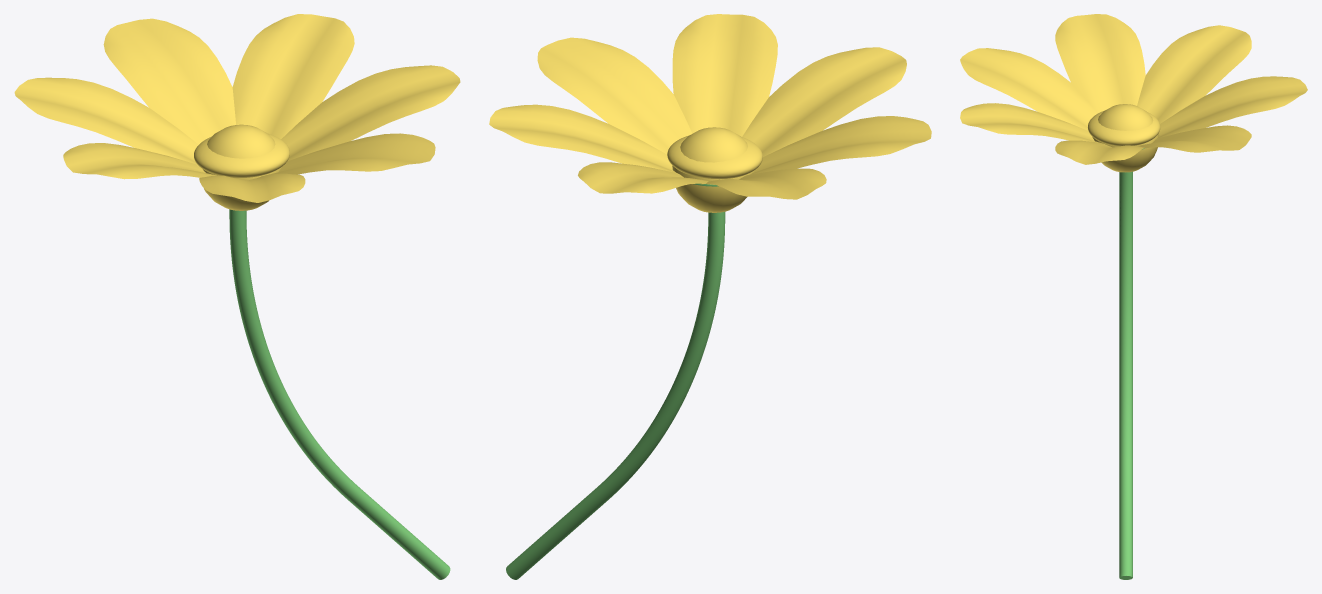
Rendered from lowPolyFlower.glb.
The picture shows the model from 3 angles, left to right: view 1: azimuth 30°, elevation 25°; view 2: azimuth 150°, elevation 25°; view 3: azimuth 270°, elevation 25°; orthographic projection. The views are drawn at different scales.
Visible parts, largest first — view 1: Plane 0.8, Plane 0.1, Plane 0.7, Stem, Plane 0.3, Plane 0.6, Plane 0.4, Middle, Plane 0.5, Middle.2; view 2: Plane 0.6, Plane 0.7, Plane 0.5, Stem, Plane 0.8, Plane 0.4, Middle, Plane 0.1, Plane 0.3, Middle.2; view 3: Plane 0.4, Plane 0.3, Stem, Plane 0.5, Plane 0.1, Plane 0.6, Plane 0.8, Middle, Plane 0.7, Middle.2.
Boxes of the visible parts, left/top/right/bottom form: Plane 0.8: left=232, top=14, right=354, bottom=138; Plane 0.1: left=103, top=18, right=235, bottom=144; Plane 0.7: left=281, top=65, right=460, bottom=161; Stem: left=229, top=209, right=450, bottom=579; Plane 0.3: left=14, top=77, right=198, bottom=166; Plane 0.6: left=261, top=133, right=435, bottom=176; Plane 0.4: left=63, top=143, right=216, bottom=179; Middle: left=203, top=124, right=281, bottom=210; Plane 0.5: left=199, top=173, right=305, bottom=202; Middle.2: left=194, top=134, right=289, bottom=177; Plane 0.6: left=672, top=14, right=777, bottom=136; Plane 0.7: left=537, top=37, right=692, bottom=154; Plane 0.5: left=742, top=47, right=906, bottom=156; Stem: left=506, top=212, right=725, bottom=579; Plane 0.8: left=489, top=104, right=679, bottom=174; Plane 0.4: left=744, top=116, right=931, bottom=176; Middle: left=672, top=127, right=755, bottom=212; Plane 0.1: left=578, top=162, right=714, bottom=193; Plane 0.3: left=701, top=168, right=826, bottom=199; Middle.2: left=667, top=135, right=762, bottom=179; Plane 0.4: left=1055, top=14, right=1145, bottom=113; Plane 0.3: left=1137, top=25, right=1251, bottom=123; Stem: left=1119, top=171, right=1132, bottom=579; Plane 0.5: left=960, top=48, right=1097, bottom=130; Plane 0.1: left=1156, top=76, right=1307, bottom=139; Plane 0.6: left=960, top=103, right=1104, bottom=144; Plane 0.8: left=1138, top=125, right=1251, bottom=152; Middle: left=1092, top=104, right=1158, bottom=172; Plane 0.7: left=1055, top=140, right=1145, bottom=164; Middle.2: left=1088, top=110, right=1160, bottom=146.
Bounding box in the file's own units: 6.69 × 8.34 × 6.33.
